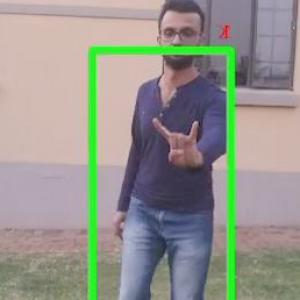takeoff-hand: (154, 106, 212, 173)
